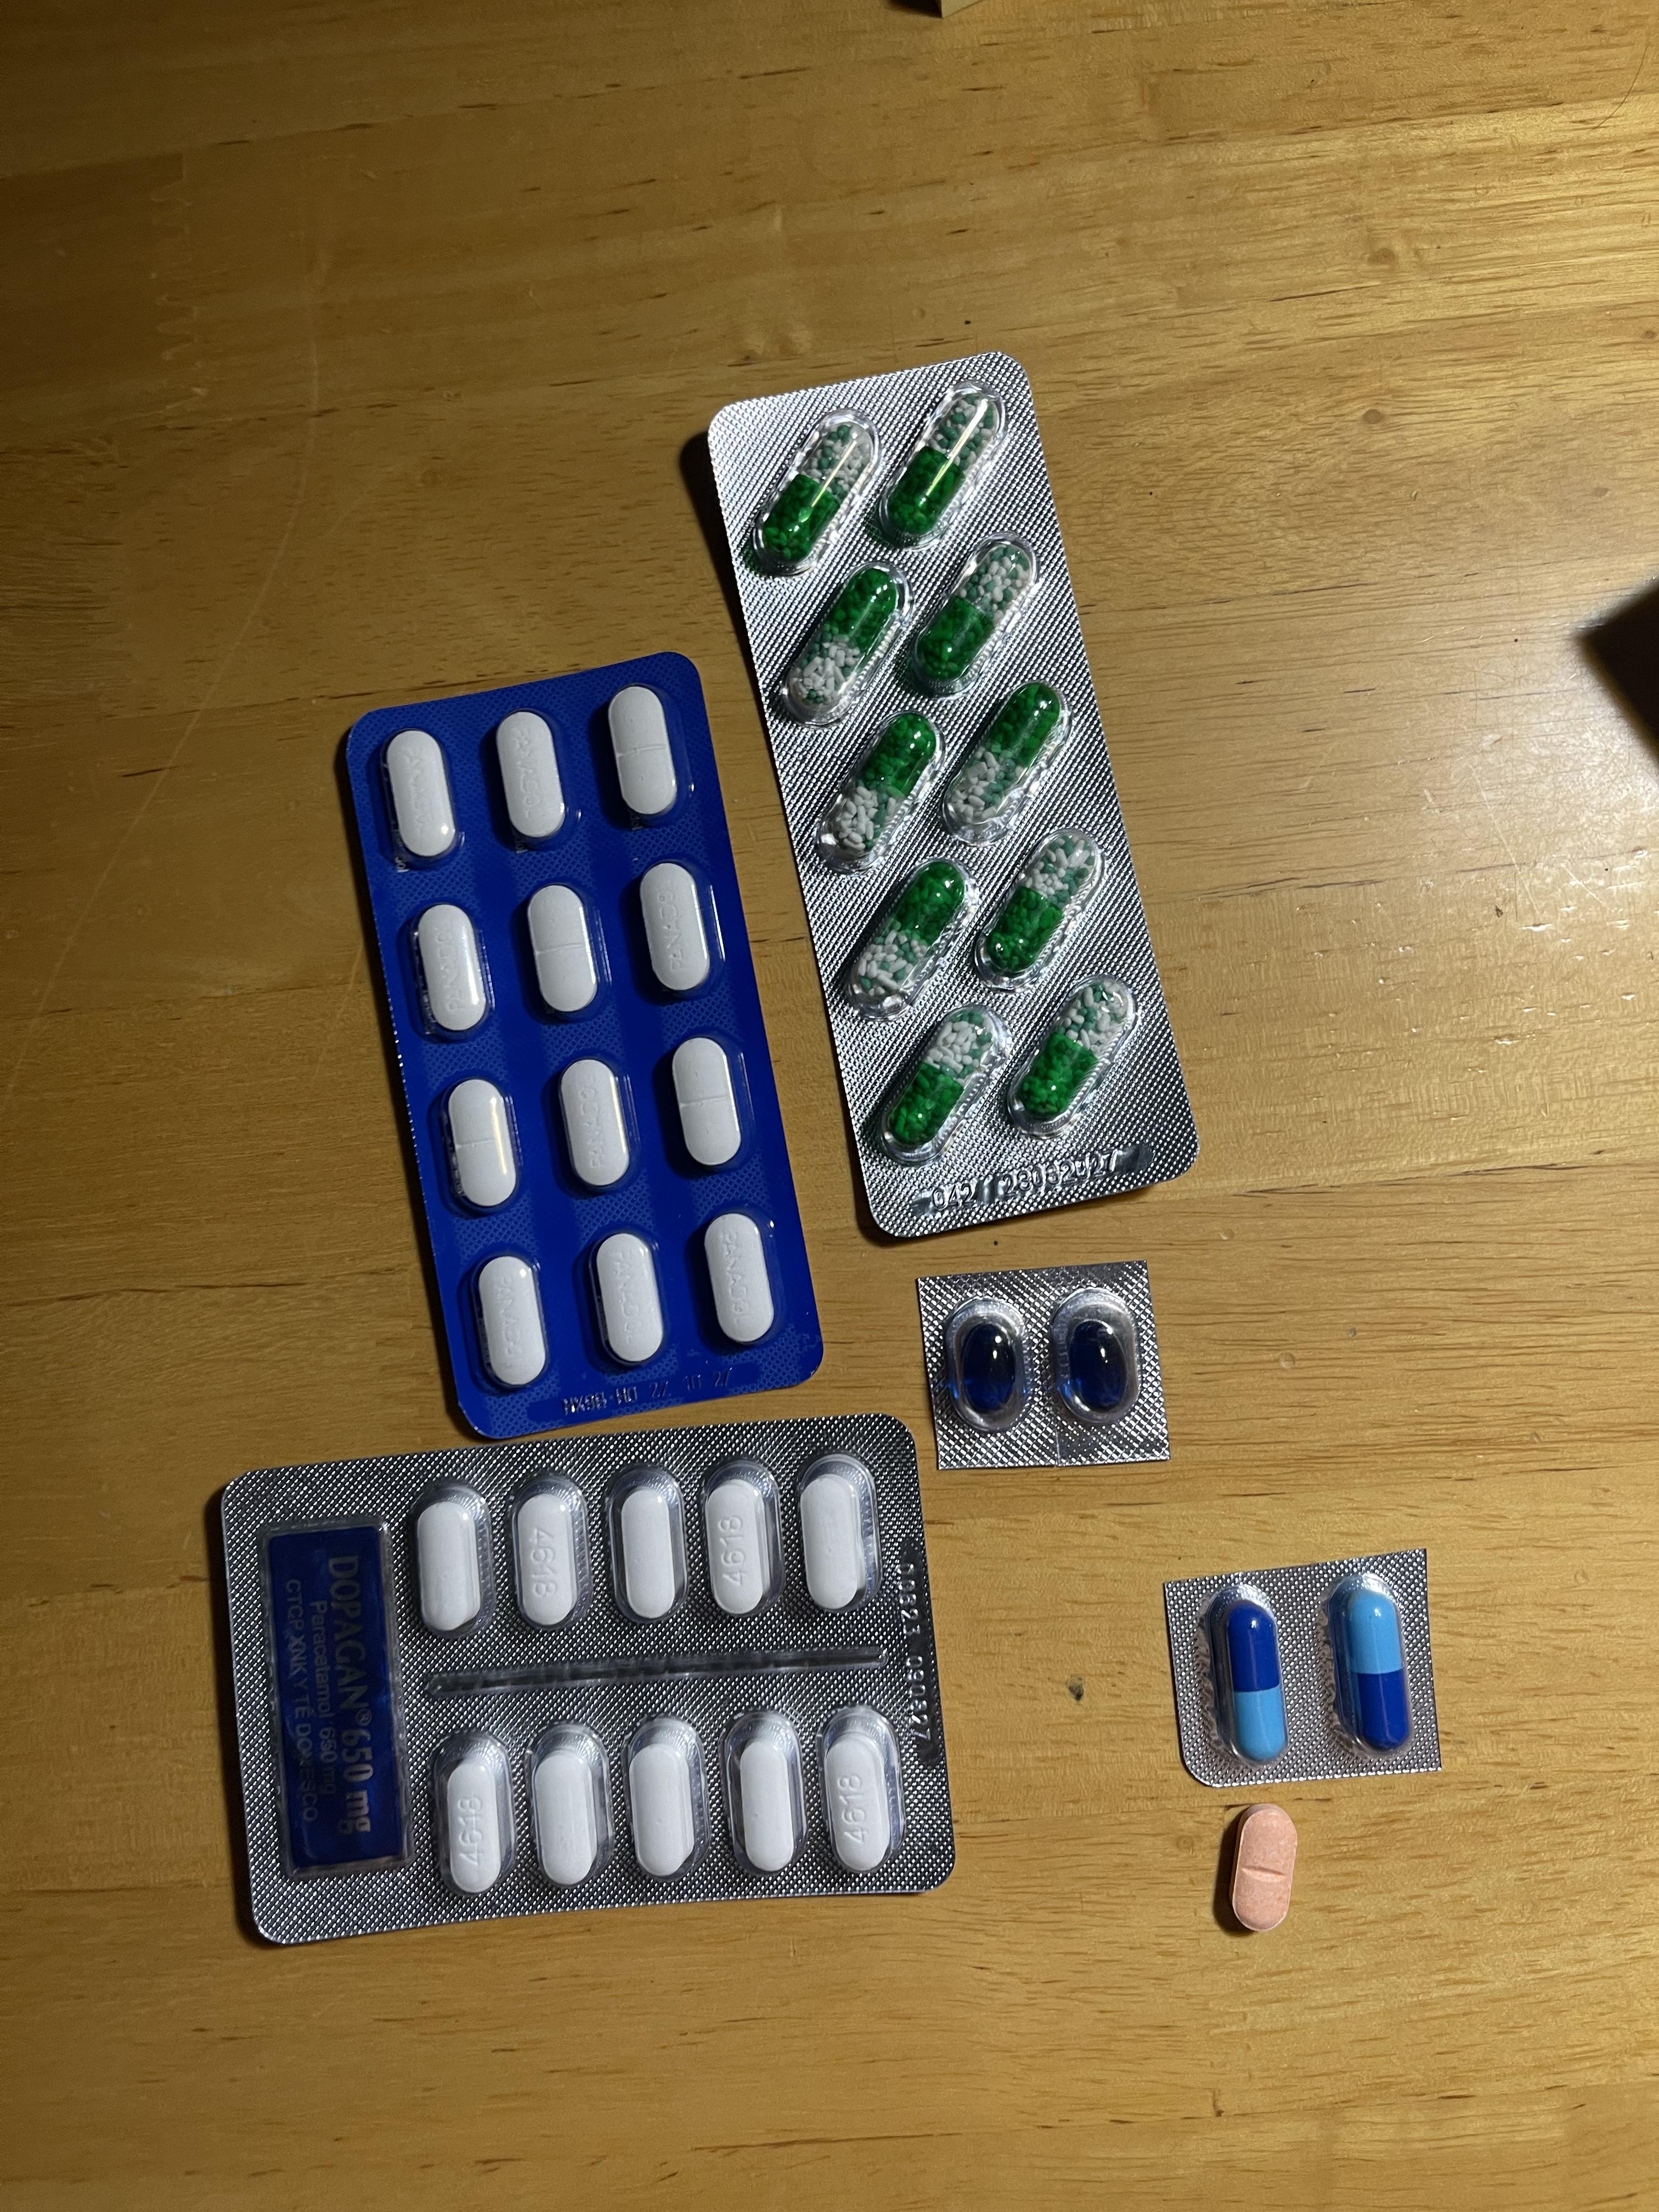Lincomyxin_500mg: (1066, 1320, 1127, 1414), (964, 1324, 1019, 1414)
Loratadine_10mg: (1229, 1803, 1300, 1933)
Paracetamol_350mg: (441, 1078, 519, 1214), (472, 1256, 547, 1393), (592, 1233, 667, 1371), (413, 902, 490, 1036), (558, 1059, 634, 1193), (699, 1212, 775, 1346), (638, 862, 713, 998), (526, 885, 601, 1019), (383, 730, 458, 864), (671, 1036, 744, 1170), (495, 712, 568, 845), (606, 686, 680, 819)
Paracetamol_500mg: (817, 1707, 899, 1878), (723, 1707, 805, 1878), (434, 1730, 516, 1897), (532, 1723, 612, 1888), (608, 1468, 688, 1622), (702, 1456, 782, 1608), (627, 1719, 702, 1879), (511, 1475, 587, 1627), (415, 1489, 486, 1629), (802, 1475, 866, 1613)
Paracetamol_650mg: (901, 536, 1042, 704), (870, 383, 1006, 550), (868, 998, 1009, 1158), (774, 563, 906, 726), (748, 408, 878, 573), (838, 852, 972, 1012), (969, 824, 1107, 979), (1004, 975, 1136, 1132), (816, 707, 946, 862), (936, 686, 1070, 833)
pill: (1338, 1580, 1408, 1750), (1220, 1590, 1284, 1764)
